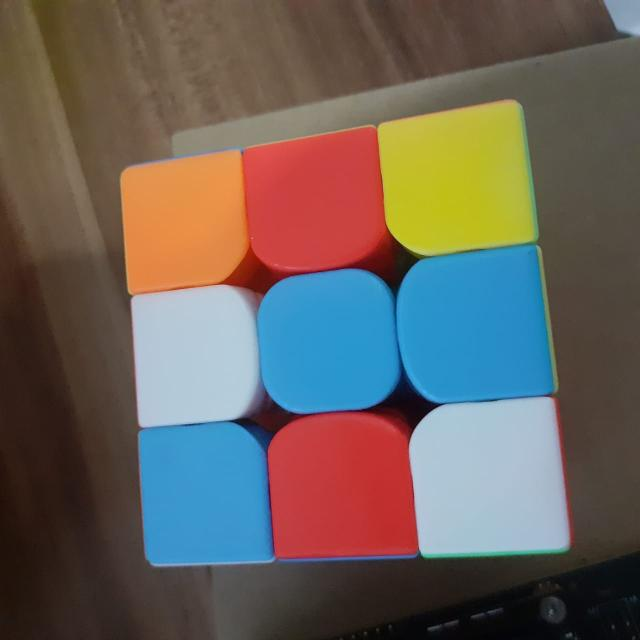Blue: (404, 256, 550, 398), (136, 431, 270, 574), (260, 280, 398, 406)
Orange: (123, 162, 237, 280)
Red: (275, 422, 409, 562), (250, 150, 378, 268)
White: (421, 406, 562, 556), (130, 294, 254, 422)
Yellow: (384, 100, 528, 240)
